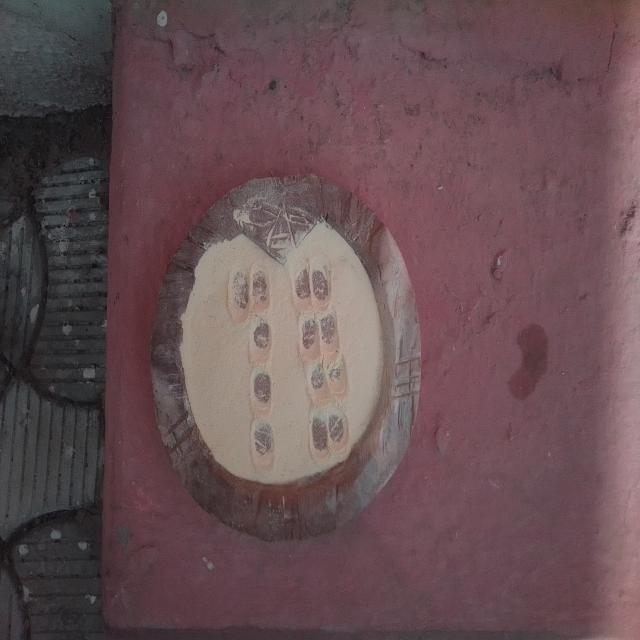double: (225, 260, 272, 316), (296, 308, 344, 360), (288, 256, 334, 310), (308, 402, 350, 460), (302, 357, 349, 403)
single: (248, 419, 280, 473), (247, 314, 275, 370), (248, 371, 276, 418)
